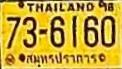0: (100, 15, 115, 46)
1: (72, 15, 76, 47)
3: (22, 16, 36, 47)
6: (83, 15, 98, 46), (50, 16, 64, 46)
7: (6, 16, 20, 48)
SPK: (25, 51, 98, 69)
